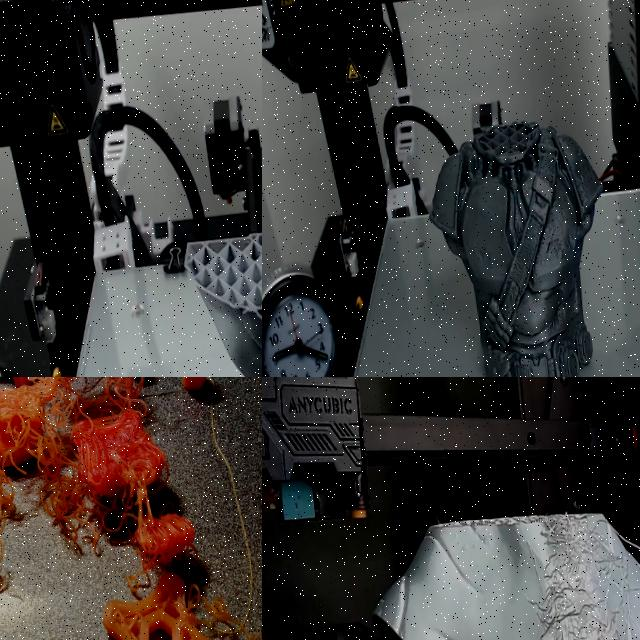spaghetti: (2, 377, 123, 573), (497, 492, 640, 640), (175, 576, 262, 640), (95, 377, 171, 417), (0, 451, 18, 535), (0, 545, 11, 588)
